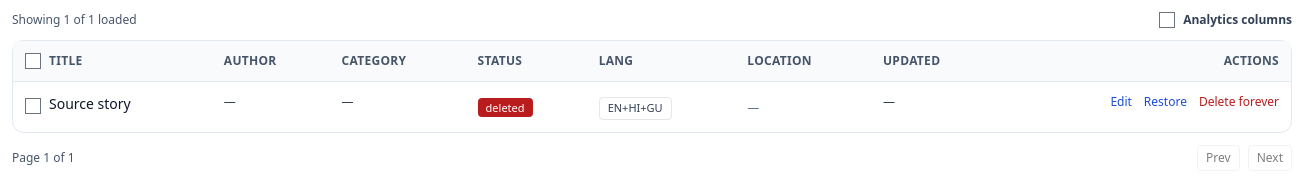
Test: Manage News lifecycle actions › reflects the restored Published state rather than forcing Draft
This screenshot has width=1304, height=188.
Click the button "Restore" at (1165, 102), box [1144,94,1187,110]
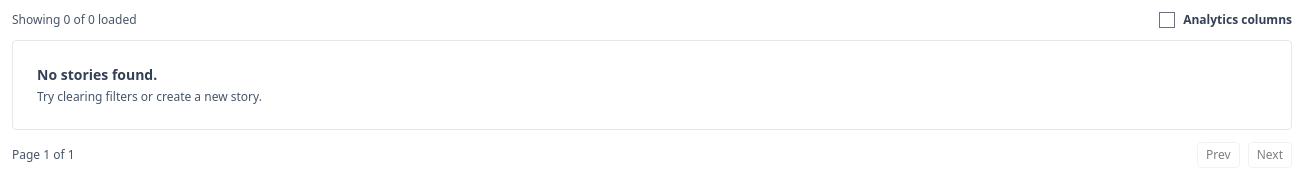
Expected: the text "No stories found." is shown, [37,65,157,84]
